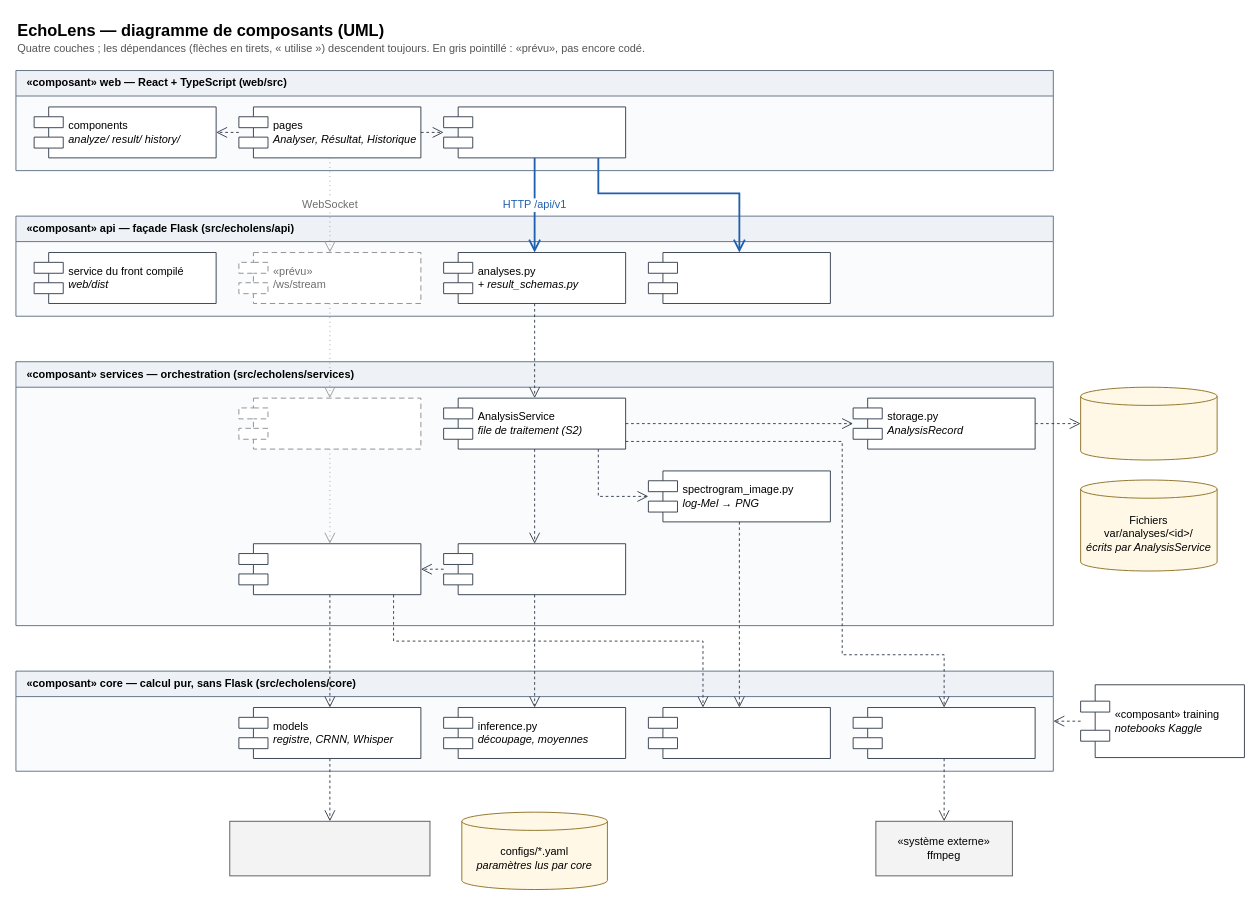
This 1260x905 diagram has some shape labels left out. The shapes that lost their labels are listed below. From the top down, each one's centre as x and y in pixels, then its label:
(534,132): api/client.ts hooks TanStack Query
(738,277): health.py /api/v1/health
(329,423): «prévu» StreamSession
(1148,423): SQLite var/echolens.db
(329,569): «interface» Predictor Demo | Model
(534,569): results.py un résultat par tâche
(738,732): features.py log-Mel, MFCC
(943,732): audio load_audio, VAD
(329,848): «système externe» Hugging Face Hub
